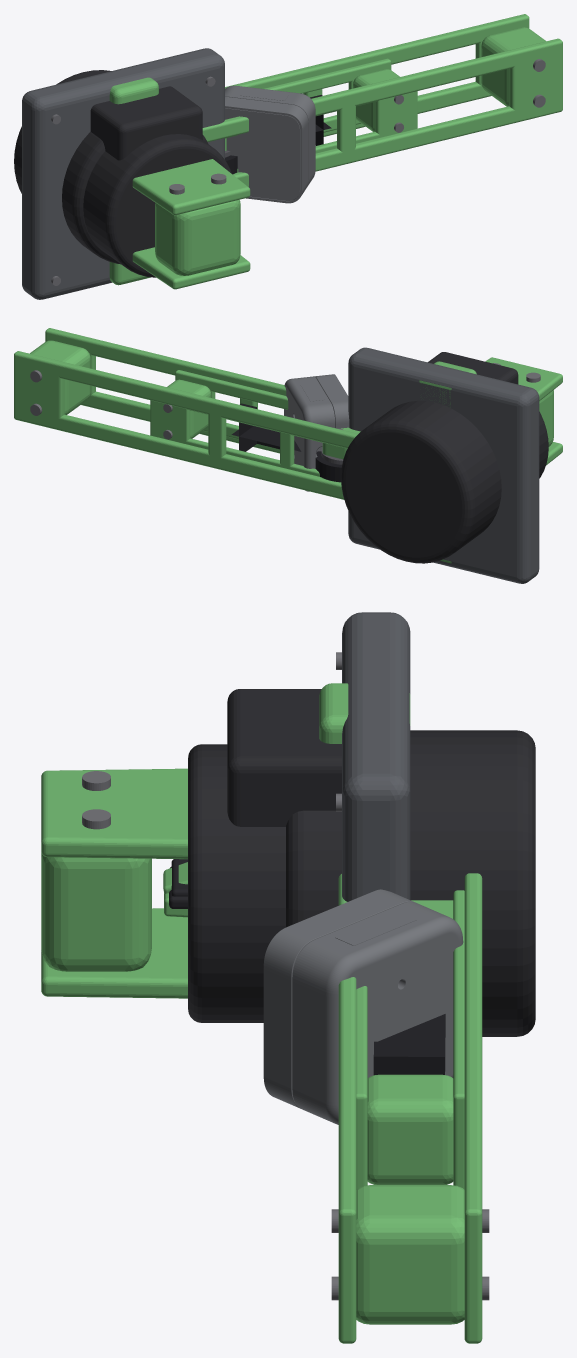
Rendered from arm.glb.
The picture shows the model from 3 angles, top to bottom: view 1: azimuth 30°, elevation 25°; view 2: azimuth 150°, elevation 25°; view 3: azimuth 270°, elevation 25°; orthographic projection. The views are drawn at different scales.
Parts seen in each view (by area): view 1: b1, b3, b2, b10, b4, b8; view 2: b3, b1, b4, b10, b2, b8, b5; view 3: b3, b2, b1, b10, b4, b8.
Part boxes in pixels (x1,y1,x2,y2): b1: (22, 48, 231, 299); b3: (14, 14, 562, 264); b2: (90, 86, 250, 289); b10: (109, 77, 315, 285); b4: (225, 58, 417, 172); b8: (225, 95, 331, 174); b3: (14, 328, 501, 563); b1: (348, 347, 548, 583); b4: (150, 370, 347, 476); b10: (284, 361, 476, 563); b2: (428, 352, 562, 465); b8: (231, 403, 343, 482); b5: (322, 427, 360, 459); b3: (286, 730, 535, 1343); b2: (41, 689, 341, 998); b1: (188, 612, 410, 1022); b10: (263, 683, 463, 1124); b4: (356, 890, 464, 1189); b8: (373, 1014, 445, 1075).
Bounding box in the file's own units: 0.257 × 0.0941 × 0.1112.
